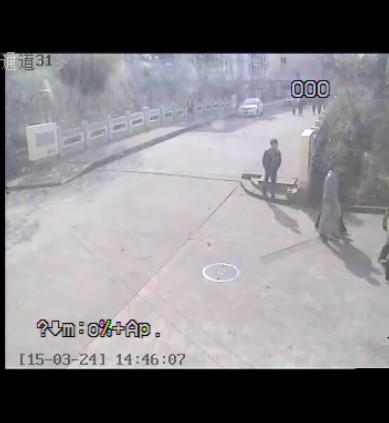person: (315, 163, 355, 243), (258, 135, 283, 198), (184, 96, 196, 124), (316, 97, 327, 114), (289, 97, 298, 115), (296, 98, 304, 116), (310, 96, 316, 112)
